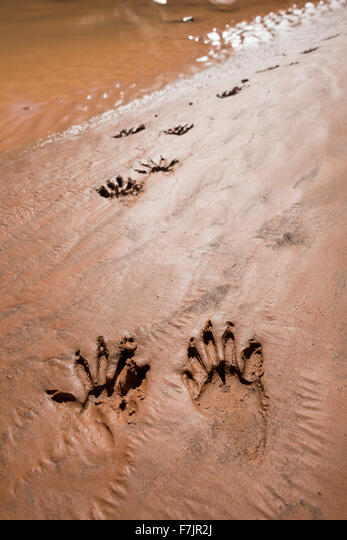raccoon: (176, 314, 303, 466), (49, 324, 160, 439)
